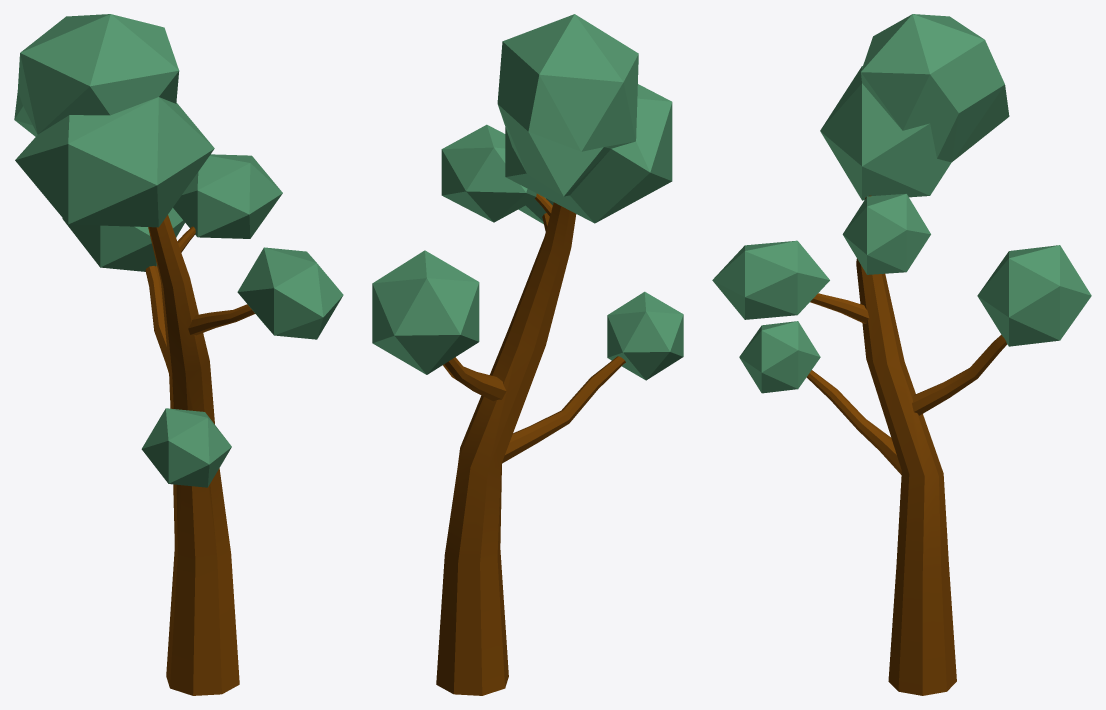
File: Tree.fbx
3 renders of one model, left to right at view 1: azimuth 30°, elevation 25°; view 2: azimuth 150°, elevation 25°; view 3: azimuth 270°, elevation 25°, orthographic. The views are drawn at different scales.
Visible parts, largest first — view 1: Tree; view 2: Tree; view 3: Tree.
Part boxes in pixels (bbox=[...]): Tree: bbox=[14, 14, 343, 695]; Tree: bbox=[372, 14, 683, 695]; Tree: bbox=[712, 14, 1091, 695].
Bounding box in the file's own units: 7.06 × 20.11 × 11.08.
